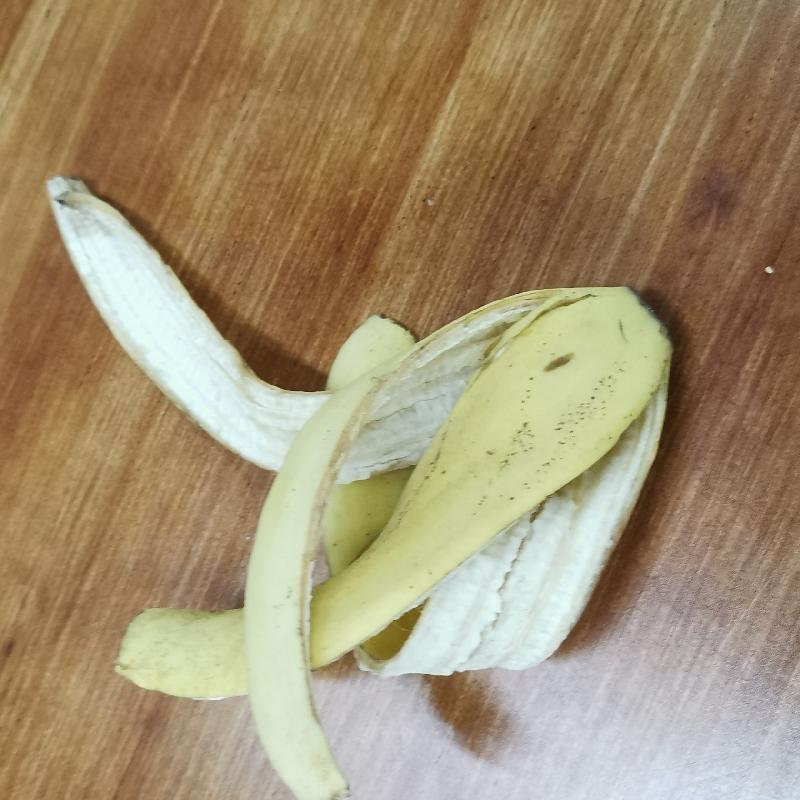bananas: (31, 162, 686, 800)
